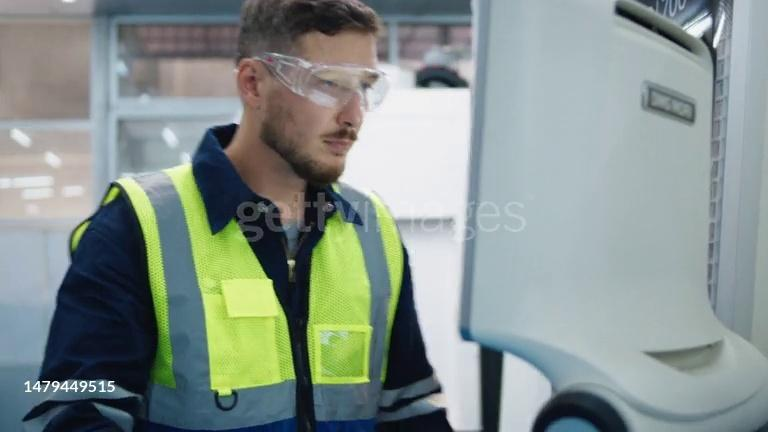person: (18, 1, 454, 432)
